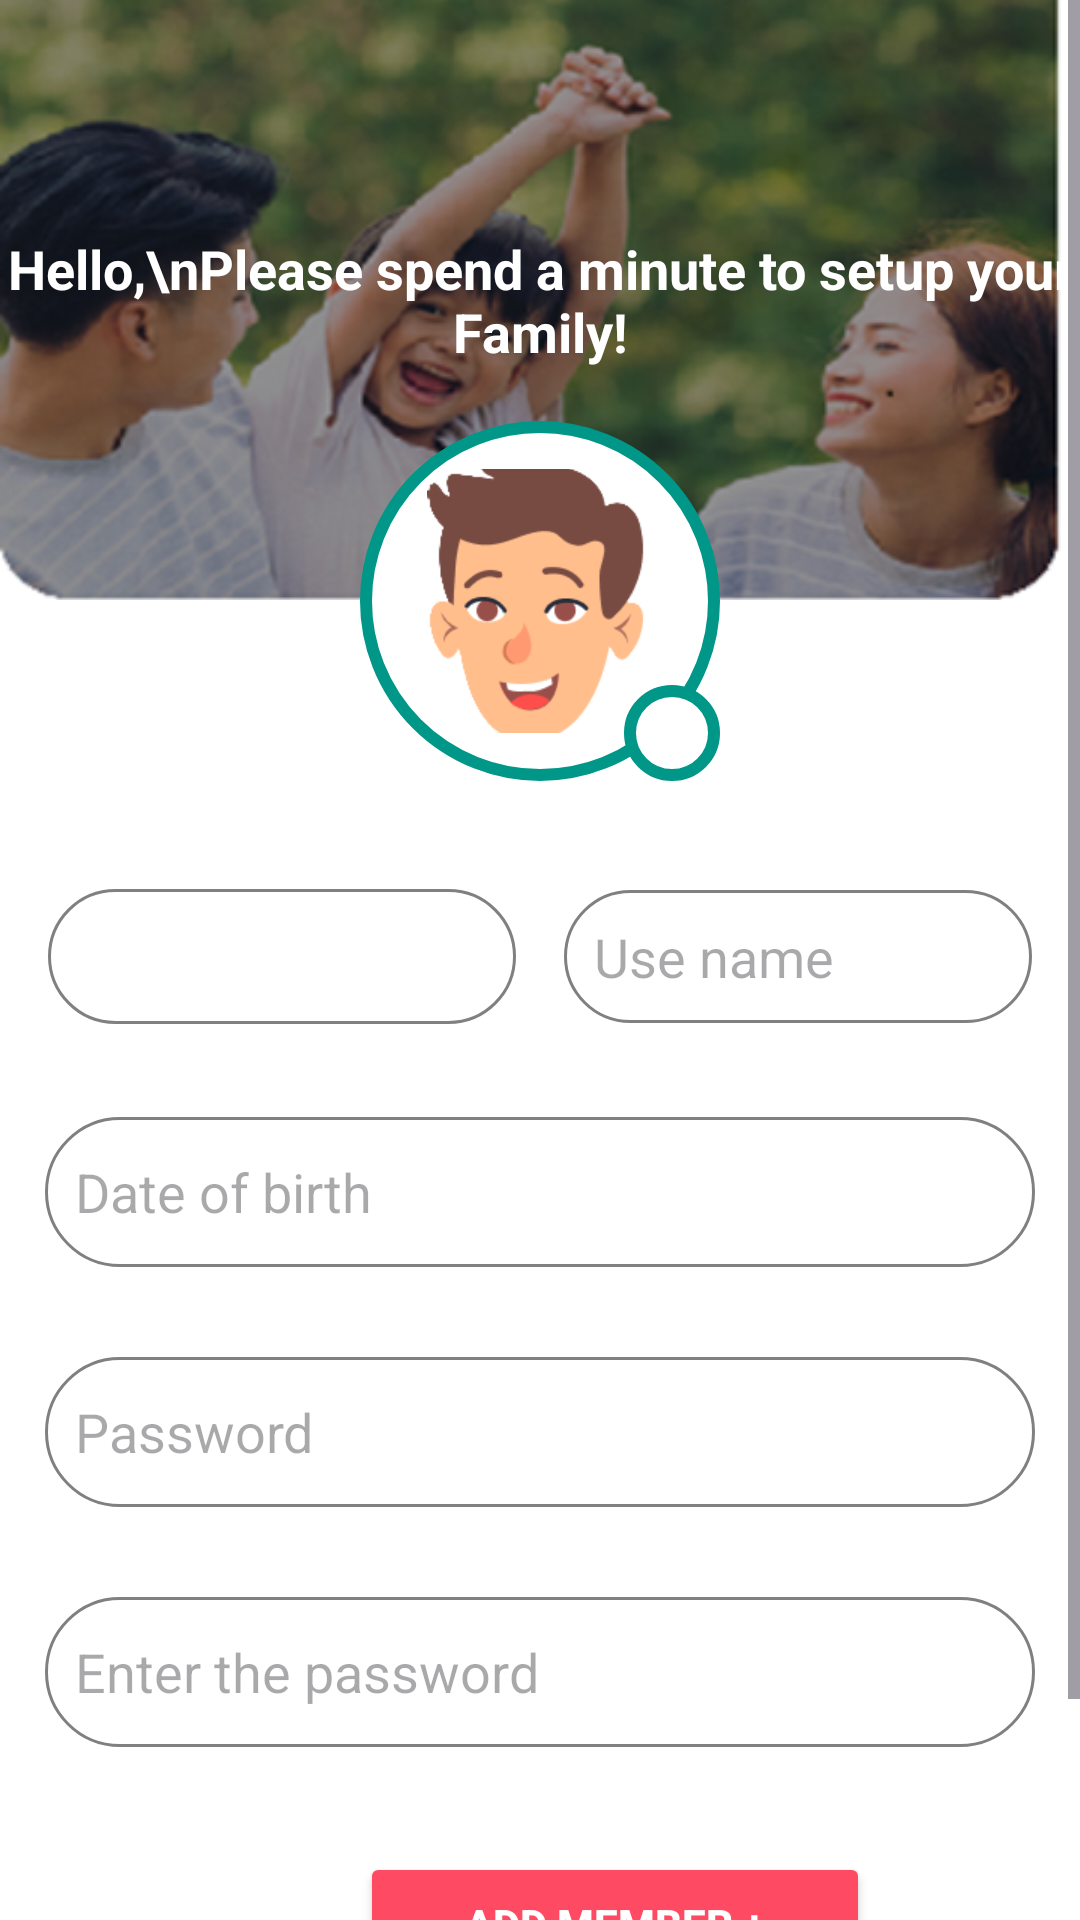

Named icons in this screenshot (1080*1920) and their bounding boxes, Rect(x1, y1, x2, y2):
ava: Rect(427, 469, 644, 733)
